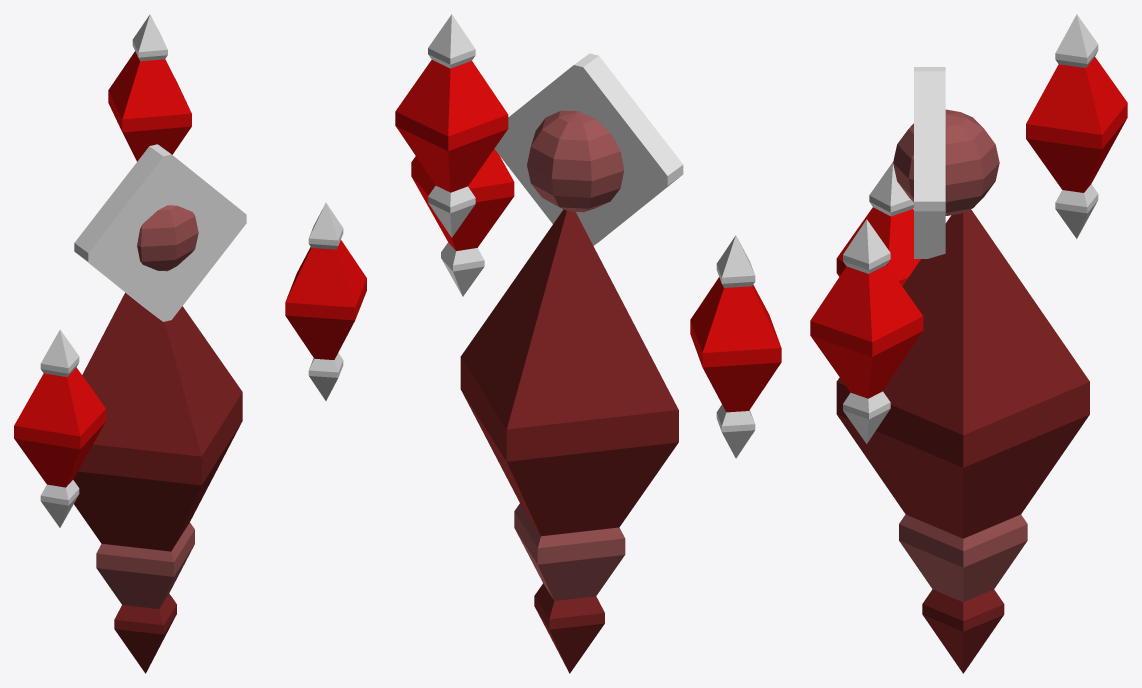
File: ExplosiveEnemy.fbx
3 renders of one model, left to right at view 1: azimuth 30°, elevation 25°; view 2: azimuth 150°, elevation 25°; view 3: azimuth 270°, elevation 25°, orthographic. The views are drawn at different scales.
Parts seen in each view (by area): view 1: pCube12, pCube15 (×3), pCube11, pCube13, pCube16 (×3), pSphere1, pCube14, pCube17 (×2); view 2: pCube12, pCube15 (×3), pCube11, pSphere1, pCube13, pCube17 (×3), pCube14, pCube16 (×2); view 3: pCube12, pCube15 (×3), pCube13, pCube11, pSphere1, pCube16 (×3), pCube14, pCube17 (×2).
Part boxes in pixels (<box>): pCube12: <box>73,292,242,551</box>; pCube15 (×3): <box>14,51,366,487</box>; pCube11: <box>74,144,246,321</box>; pCube13: <box>96,522,194,608</box>; pCube16 (×3): <box>40,14,343,376</box>; pSphere1: <box>137,205,198,271</box>; pCube14: <box>114,593,176,673</box>; pCube17 (×2): <box>40,353,343,527</box>; pCube12: <box>460,209,678,536</box>; pCube15 (×3): <box>395,60,781,412</box>; pCube11: <box>494,53,683,245</box>; pSphere1: <box>527,110,624,212</box>; pCube13: <box>514,503,625,600</box>; pCube17 (×3): <box>428,186,755,458</box>; pCube14: <box>534,583,604,673</box>; pCube16 (×2): <box>428,14,755,287</box>; pCube12: <box>836,209,1089,538</box>; pCube15 (×3): <box>810,57,1127,398</box>; pCube13: <box>899,514,1027,602</box>; pCube11: <box>914,67,945,258</box>; pSphere1: <box>893,109,999,215</box>; pCube16 (×3): <box>843,14,1098,273</box>; pCube14: <box>922,589,1004,673</box>; pCube17 (×2): <box>843,184,1098,443</box>.
Bounding box in the file's own units: 12.11 × 20.71 × 8.64.
